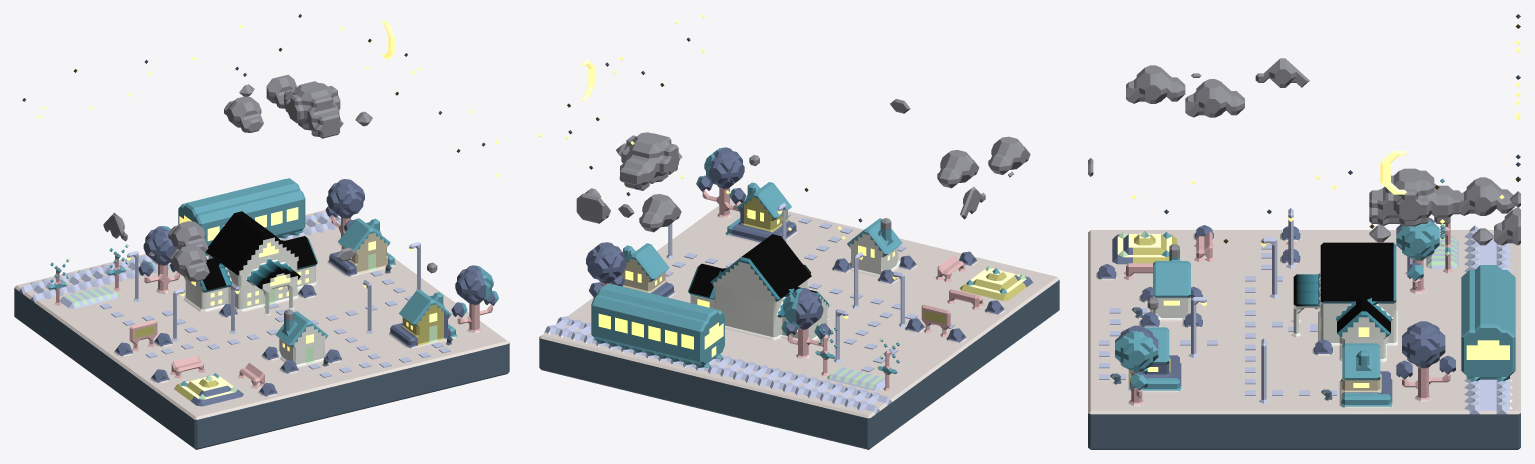
3 views of the same model, side by side, from view 1: azimuth 30°, elevation 25°; view 2: azimuth 150°, elevation 25°; view 3: azimuth 270°, elevation 25° (orthographic). The views are drawn at different scales.
Visible parts, largest first — view 1: polySurface3269, polySurface3268, townhallroof, train_ext, townhall_main, polySurface2534 (×3), rrTracks, cloud_reduce60, polySurface2514 (×2), polySurface2516 (×2), polySurface2487, polySurface2313 (+8 smaller); view 2: polySurface3269, polySurface3268, train_ext, rrTracks, townhall_main, polySurface2534 (×3), townhallroof, cloud_reduce60, polySurface2516 (×2), polySurface2514 (×2), train_windows, polySurface3257 (+8 smaller); view 3: polySurface3269, polySurface3268, townhallroof, train_ext, polySurface2534 (×3), cloud_reduce60, rrTracks, townhall_main, polySurface2516 (×2), polySurface2508 (×2), polySurface2311, polySurface2487 (+14 smaller).
Boxes of the visible parts, x1,y1,x2,y2 form: polySurface3269: [14, 210, 509, 419]; polySurface3268: [14, 288, 509, 449]; townhallroof: [184, 211, 317, 292]; train_ext: [178, 178, 305, 255]; townhall_main: [184, 237, 316, 316]; polySurface2534 (×3): [143, 179, 493, 304]; rrTracks: [19, 212, 340, 302]; cloud_reduce60: [284, 81, 343, 138]; polySurface2514 (×2): [341, 232, 448, 345]; polySurface2516 (×2): [338, 218, 451, 325]; polySurface2487: [169, 245, 209, 281]; polySurface2313: [224, 96, 263, 132]; polySurface3269: [539, 198, 1059, 418]; polySurface3268: [539, 280, 1059, 449]; train_ext: [591, 283, 724, 368]; rrTracks: [544, 316, 891, 414]; townhall_main: [690, 261, 828, 340]; polySurface2534 (×3): [586, 147, 823, 329]; townhallroof: [688, 234, 829, 317]; cloud_reduce60: [619, 132, 682, 190]; polySurface2516 (×2): [623, 182, 791, 280]; polySurface2514 (×2): [621, 197, 788, 293]; train_windows: [598, 313, 723, 357]; polySurface3257: [849, 233, 900, 276]; polySurface3269: [1088, 230, 1520, 414]; polySurface3268: [1088, 413, 1520, 449]; townhallroof: [1293, 242, 1396, 336]; train_ext: [1461, 265, 1515, 381]; polySurface2534 (×3): [1115, 217, 1445, 372]; cloud_reduce60: [1369, 168, 1461, 226]; rrTracks: [1464, 225, 1512, 414]; townhall_main: [1292, 272, 1397, 361]; polySurface2516 (×2): [1144, 327, 1380, 379]; polySurface2508 (×2): [1130, 355, 1392, 407]; polySurface2311: [1185, 79, 1244, 117]; polySurface2487: [1126, 65, 1185, 103].
Bounding box in the file's own units: 82 × 62 × 80.
Materials: 1 (1 with a texture image).
